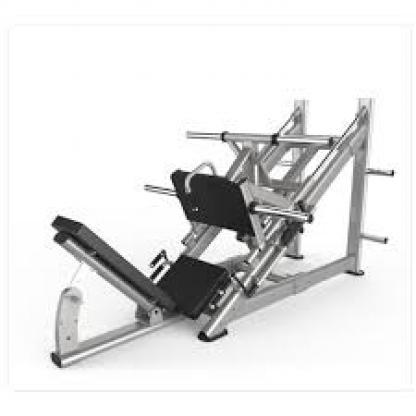leg press: (37, 86, 412, 374)
